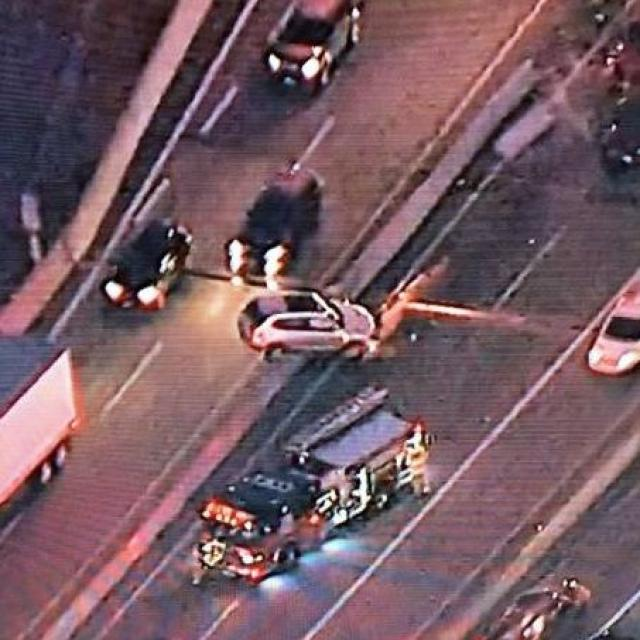traffic_incident: (199, 272, 431, 380)
